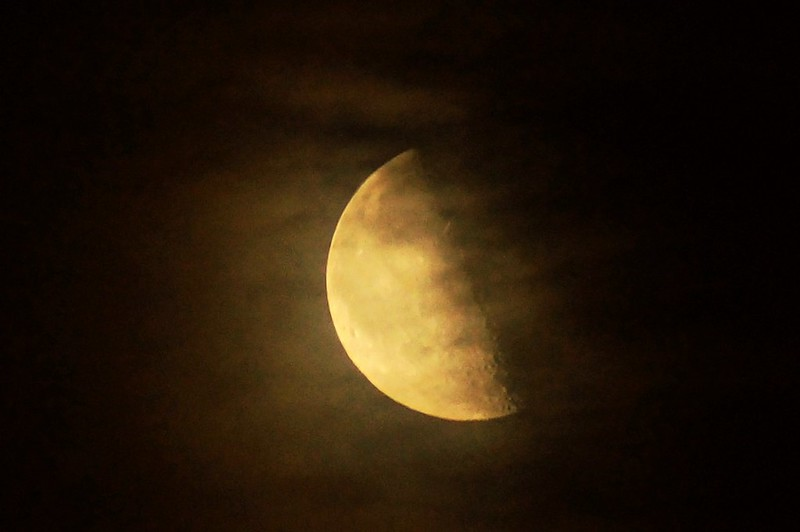crater: (408, 335, 439, 368), (347, 323, 370, 343)
